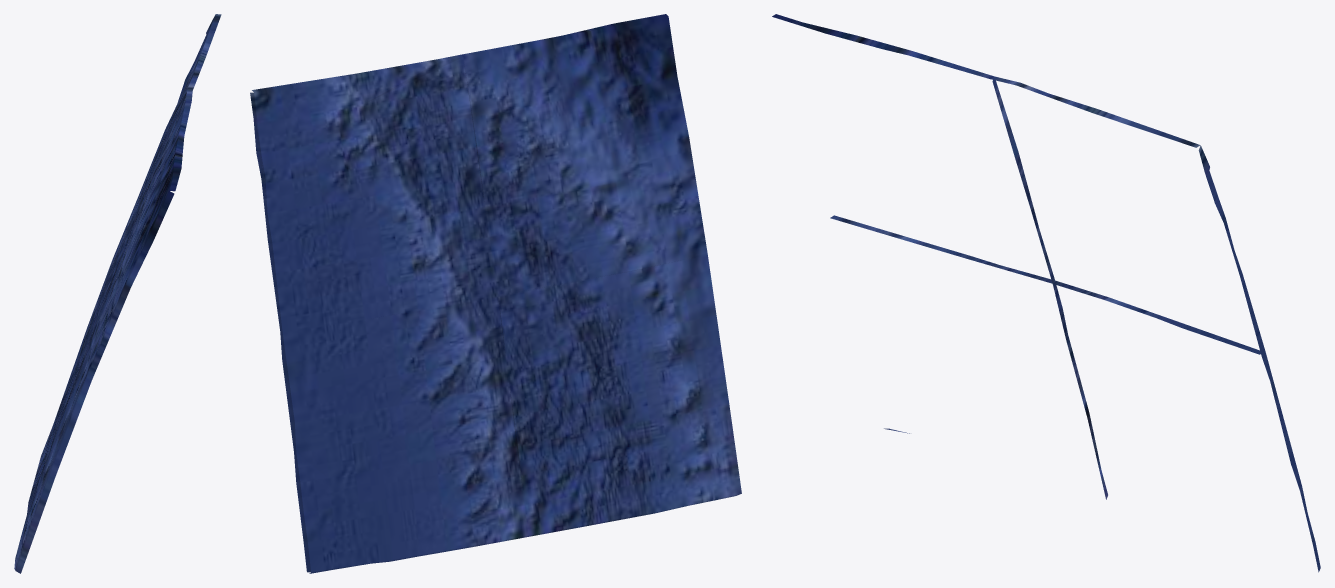
3 views of the same model, side by side, from view 1: azimuth 30°, elevation 25°; view 2: azimuth 150°, elevation 25°; view 3: azimuth 270°, elevation 25° (orthographic). The views are drawn at different scales.
Size of the model in its own units: 527952 by 595464 by 605912.
Materials: 1 (1 with a texture image).
